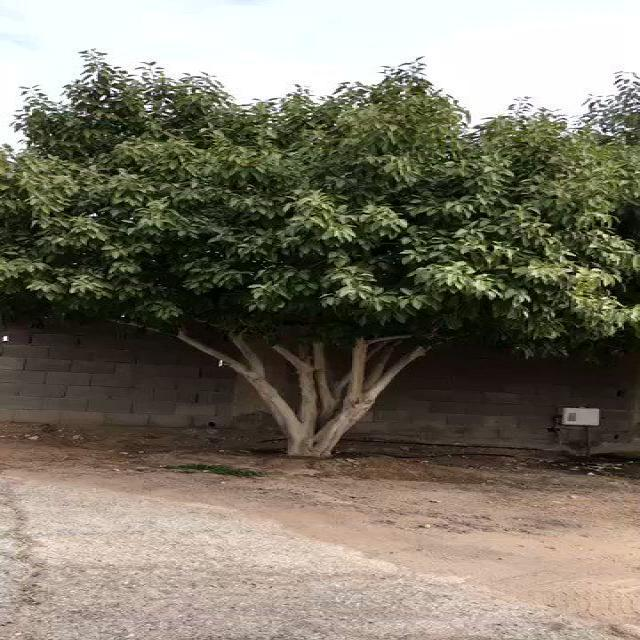tree: (2, 45, 640, 458)
